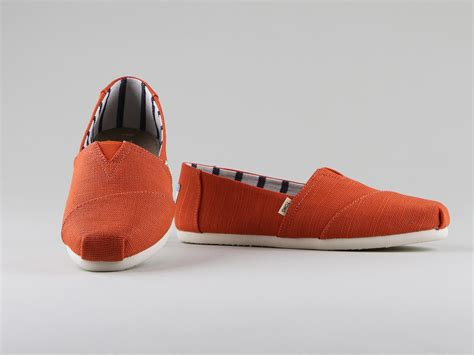nylon: (59, 75, 451, 263)
